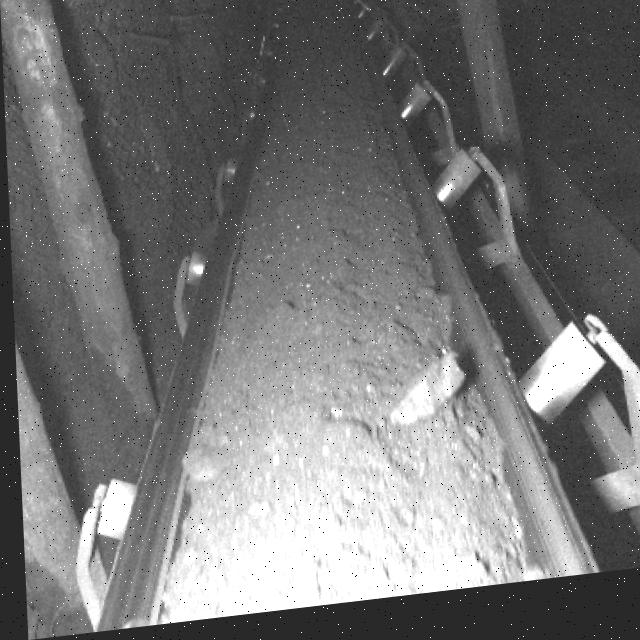large_sized_coal: (385, 359, 465, 433), (175, 445, 235, 490)
